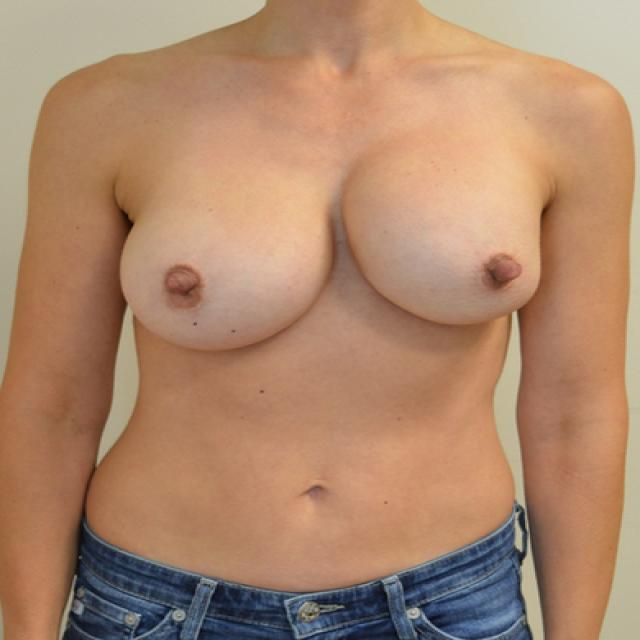Seno ileso: (112, 183, 338, 368), (340, 155, 549, 339)
